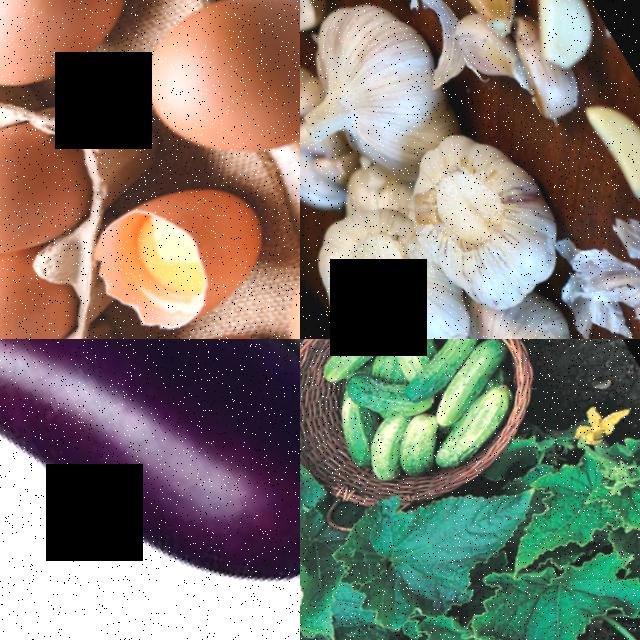cucumber: (410, 384, 530, 473), (412, 339, 523, 416), (300, 339, 409, 387), (332, 364, 402, 423), (399, 339, 490, 383), (353, 435, 405, 489)
egg_: (107, 0, 300, 195), (96, 163, 276, 328), (0, 0, 165, 112), (0, 103, 103, 280), (231, 189, 300, 339), (0, 234, 79, 339)
eggplant: (0, 339, 300, 640)
garlic: (375, 119, 578, 326), (300, 0, 462, 183), (300, 189, 480, 339), (564, 87, 640, 215), (503, 0, 615, 74), (427, 293, 606, 339), (414, 0, 520, 35)
